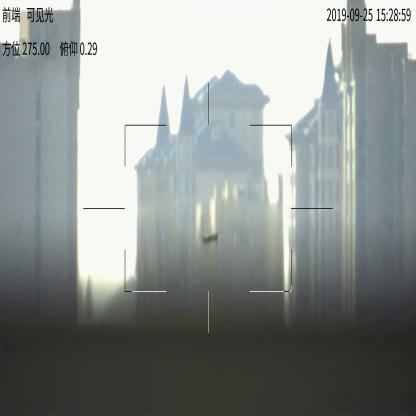uav: (202, 231, 218, 244)
